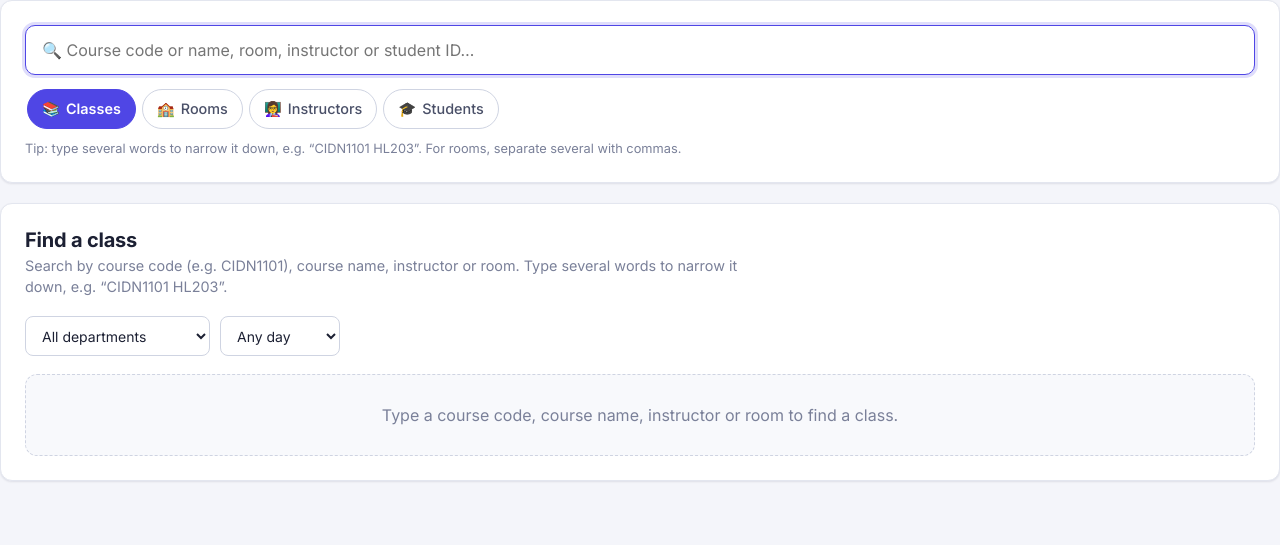
SearchPage › shows an instructor list filtered by the same box
In the search field named "Search": (640, 50) [25, 25, 1255, 75], type "Teacher C"
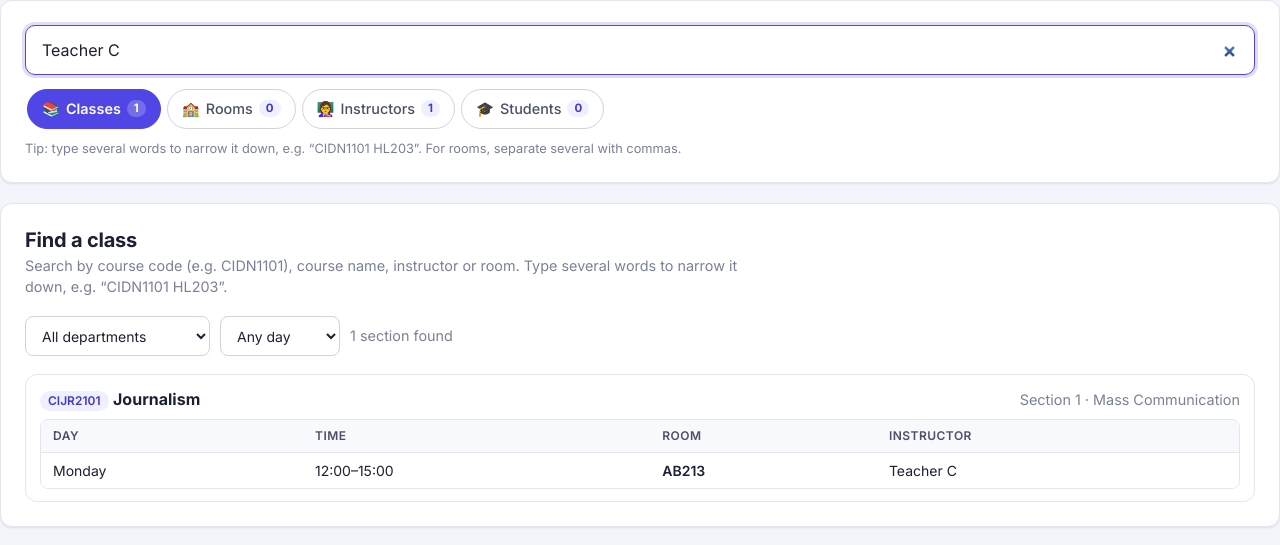
Expected: the tab with class "subnav-item" reads "📚 Classes 1", [27, 89, 161, 129]
Click the tab "👩‍🏫 Instructors 1": (378, 109) [302, 89, 455, 129]
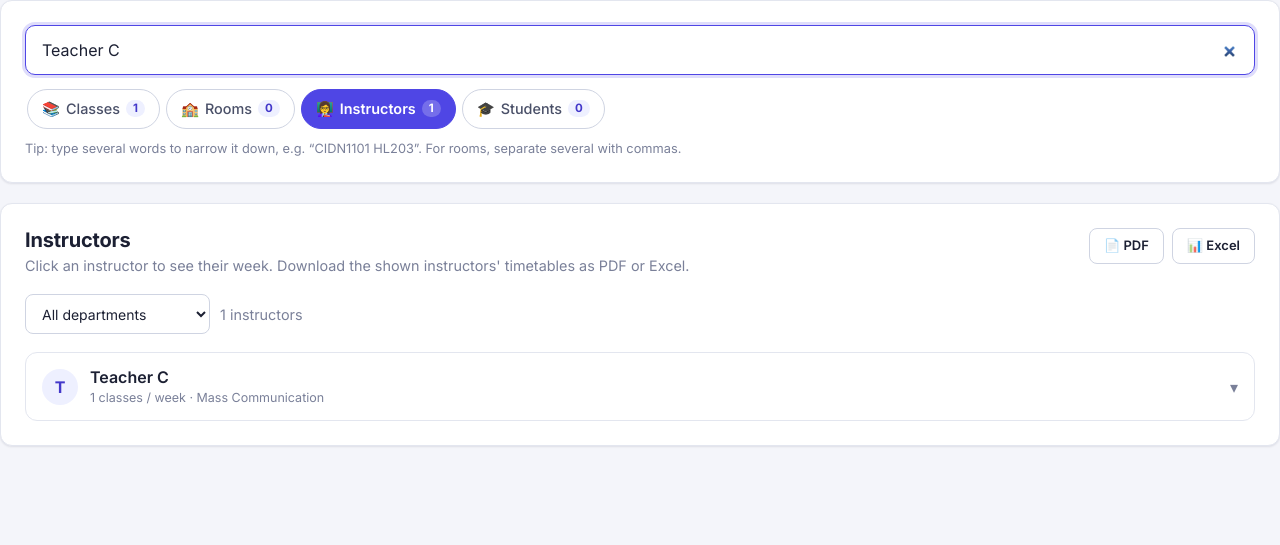
Expected: the text "1 instructors" is shown, [220, 304, 303, 325]
